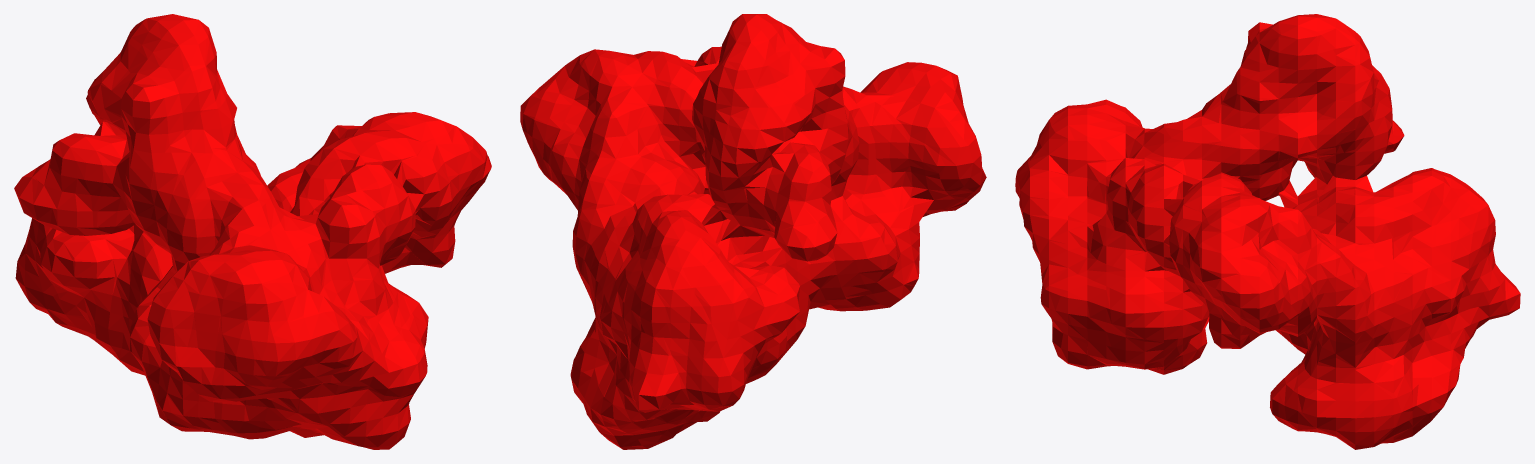
Rendered from miaA_coarse.dae.
3 renders of one model, left to right at view 1: azimuth 30°, elevation 25°; view 2: azimuth 150°, elevation 25°; view 3: azimuth 270°, elevation 25°, orthographic. The views are drawn at different scales.
Visible parts, largest first — view 1: miaA; view 2: miaA; view 3: miaA.
Boxes of the visible parts, left/top/right/bottom form: miaA: left=14, top=14, right=491, bottom=449; miaA: left=520, top=14, right=986, bottom=449; miaA: left=1015, top=14, right=1520, bottom=449.
Size of the model in its own units: 92.27 by 95.64 by 112.
